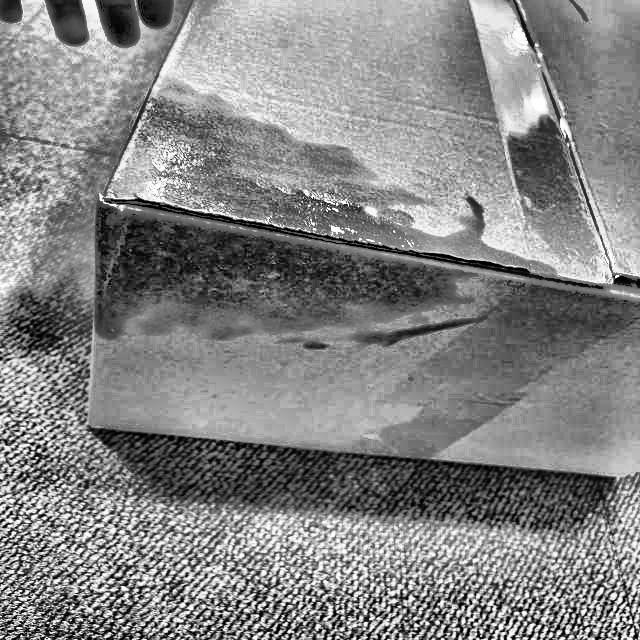box: (78, 0, 639, 491)
wet: (81, 87, 507, 357)
